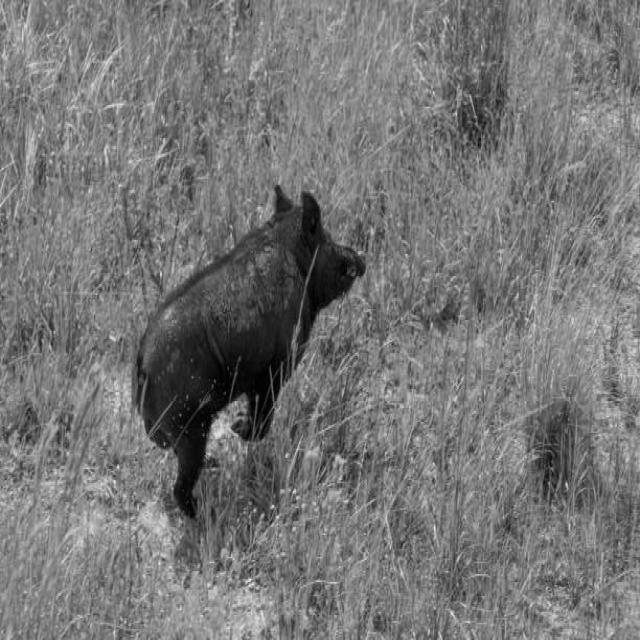boar: (135, 184, 364, 513)
